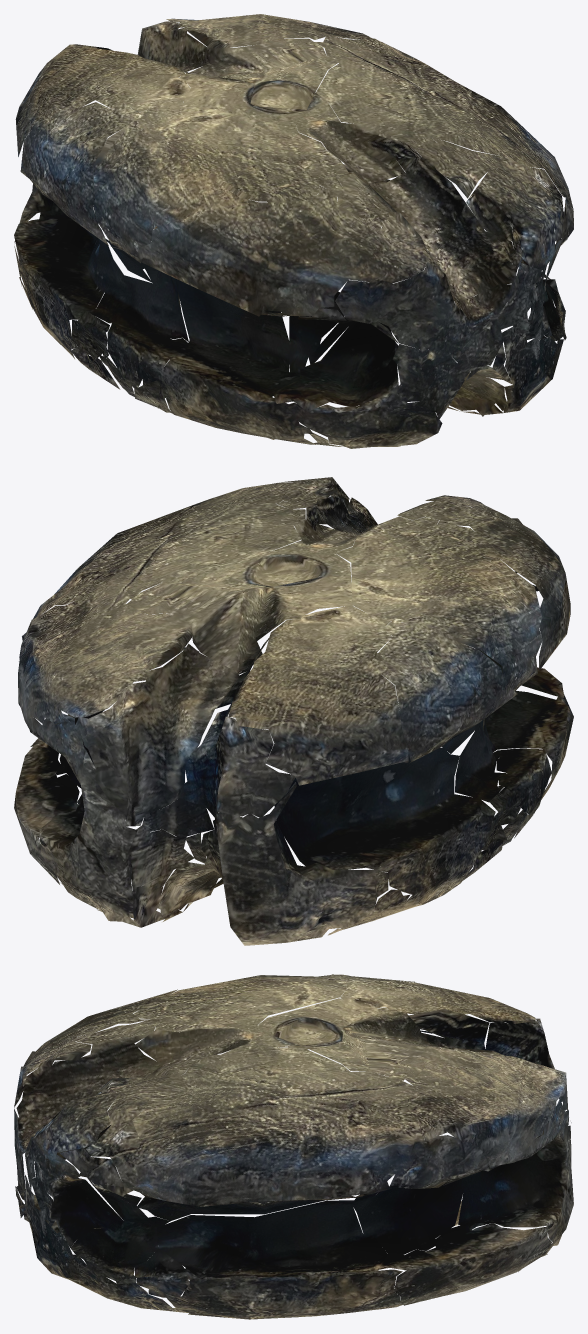
File: pulley_block.glb
The picture shows the model from 3 angles, top to bottom: view 1: azimuth 30°, elevation 25°; view 2: azimuth 150°, elevation 25°; view 3: azimuth 270°, elevation 25°; orthographic projection. The views are drawn at different scales.
Visible parts, largest first — view 1: Object_4; view 2: Object_4; view 3: Object_4.
Part boxes in pixels (box(x1,y1,x2,y2)): Object_4: box(14, 14, 573, 448); Object_4: box(14, 477, 573, 945); Object_4: box(14, 974, 573, 1319).
Bounding box in the file's own units: 0.9961 × 0.6187 × 1.34.
1 material, 1 textured.
